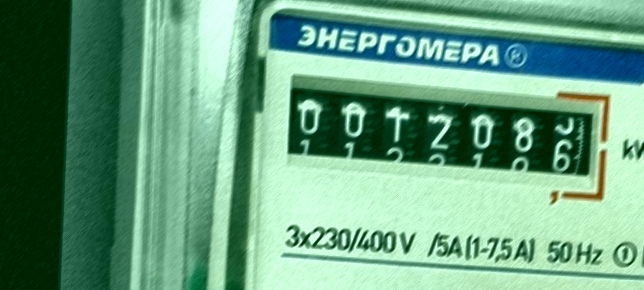0: (338, 95, 367, 138), (295, 91, 320, 134), (468, 109, 493, 149)
1: (382, 100, 406, 142)
2: (425, 109, 452, 149)
6: (546, 134, 572, 171)
8: (510, 112, 534, 152)
screen: (275, 59, 620, 212)
